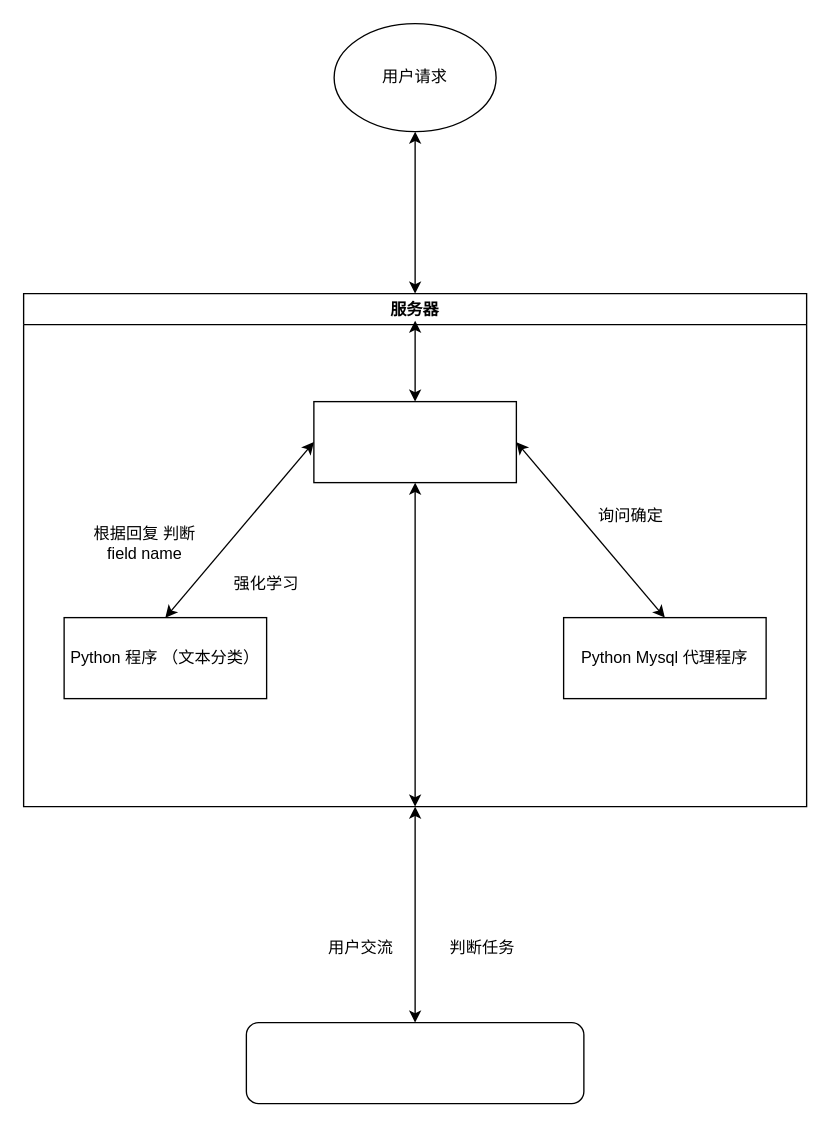
Some shapes in this 830 by 1127 pixel diagram are drawn without their labels. The shapes that lost their labels are listed below. From the top down, each one's centre as x and y in pixels, then its label:
(414,441): web server nodejs adonisjs
(414,1062): 第三方AI 平台
